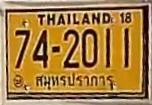0: (81, 28, 97, 67)
1: (105, 28, 110, 67), (124, 28, 128, 68)
2: (63, 28, 78, 68)
4: (32, 29, 47, 67)
7: (14, 29, 30, 68)
SPK: (36, 70, 115, 91)
